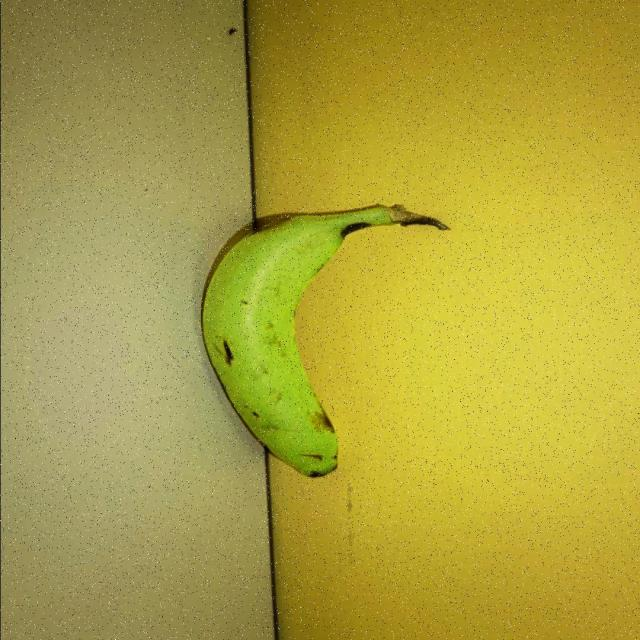Banana: (199, 203, 443, 479)
